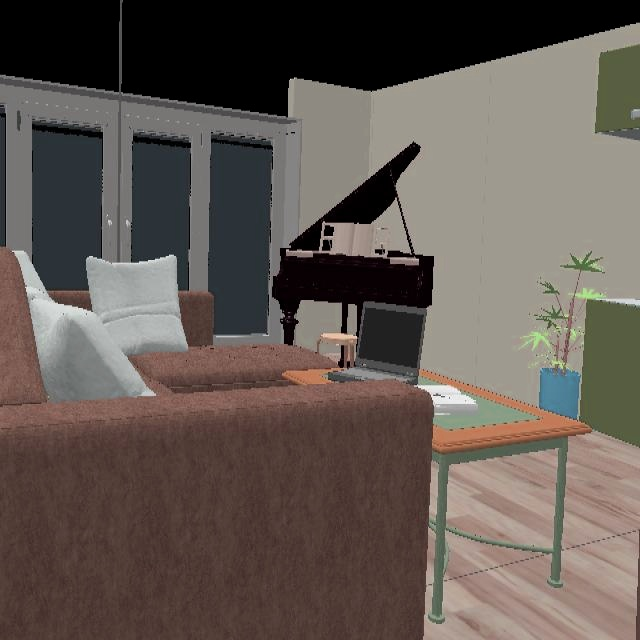book: (419, 372, 482, 427)
cabinet: (579, 296, 640, 449), (595, 40, 640, 141)
laptop: (325, 301, 427, 387)
pillow: (13, 251, 188, 403)
sofa: (0, 248, 435, 640)
table: (421, 372, 590, 500)
